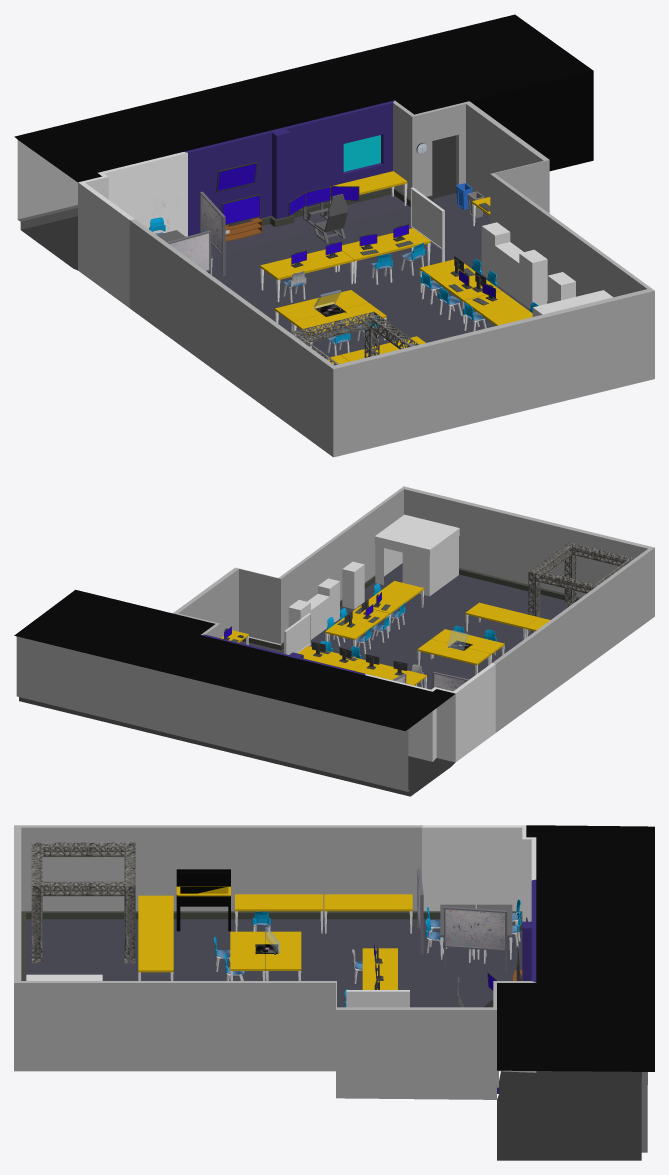
Rendered from GameLab.fbx.
3 views of the same model, one above another, from view 1: azimuth 30°, elevation 25°; view 2: azimuth 150°, elevation 25°; view 3: azimuth 270°, elevation 25° (orthographic). The views are drawn at different scales.
Visible parts, largest first — view 1: Cube, Plane, Plane.001, Cube.003, Cube.007, Plane.006, Plane.004, Plane.002, Plane.015, Cube.002, Cube.014, Cube.005 (+9 smaller); view 2: Cube, Cube.004, Plane, Plane.015, Plane.014, Plane.004, Cube.010, Plane.002, Plane.003, Cube.007, Plane.001, Cube.002 (+3 smaller); view 3: Cube, Plane, Cube.005, Cube.009, Plane.005, Plane.009, Plane.014, Plane.003, Plane.004, Plane.013, Plane.001, Cube.007 (+1 smaller).
Boxes of the visible parts, box(x1,y1,x2,y2) form: Cube: box(14, 14, 654, 457); Plane: box(290, 311, 418, 365); Plane.001: box(260, 249, 353, 302); Cube.003: box(519, 249, 547, 308); Cube.007: box(410, 187, 444, 262); Plane.006: box(337, 228, 430, 283); Plane.004: box(275, 290, 368, 331); Plane.002: box(419, 259, 501, 323); Plane.015: box(464, 291, 532, 325); Cube.002: box(495, 242, 523, 300); Cube.014: box(303, 194, 347, 242); Cube.005: box(200, 191, 225, 275); Cube: box(14, 486, 654, 796); Cube.004: box(374, 514, 459, 596); Plane: box(528, 542, 634, 632); Plane.015: box(360, 581, 424, 631); Plane.014: box(465, 602, 538, 639); Plane.004: box(417, 639, 490, 674); Cube.010: box(342, 561, 364, 609); Plane.002: box(325, 606, 389, 657); Plane.003: box(431, 629, 504, 663); Cube.007: box(284, 613, 310, 654); Plane.001: box(354, 662, 426, 688); Cube.002: box(307, 594, 329, 639); Cube: box(14, 825, 654, 1160); Plane: box(31, 842, 135, 963); Cube.005: box(444, 906, 507, 971); Cube.009: box(176, 869, 230, 931); Plane.005: box(324, 894, 412, 933); Plane.009: box(235, 894, 323, 933); Plane.014: box(138, 933, 173, 980); Plane.003: box(230, 931, 265, 980); Plane.004: box(266, 931, 301, 980); Plane.013: box(138, 895, 173, 932); Plane.001: box(362, 948, 397, 985); Cube.007: box(346, 990, 409, 1007).
Bounding box in the file's own units: 2630 × 453 × 2901.
